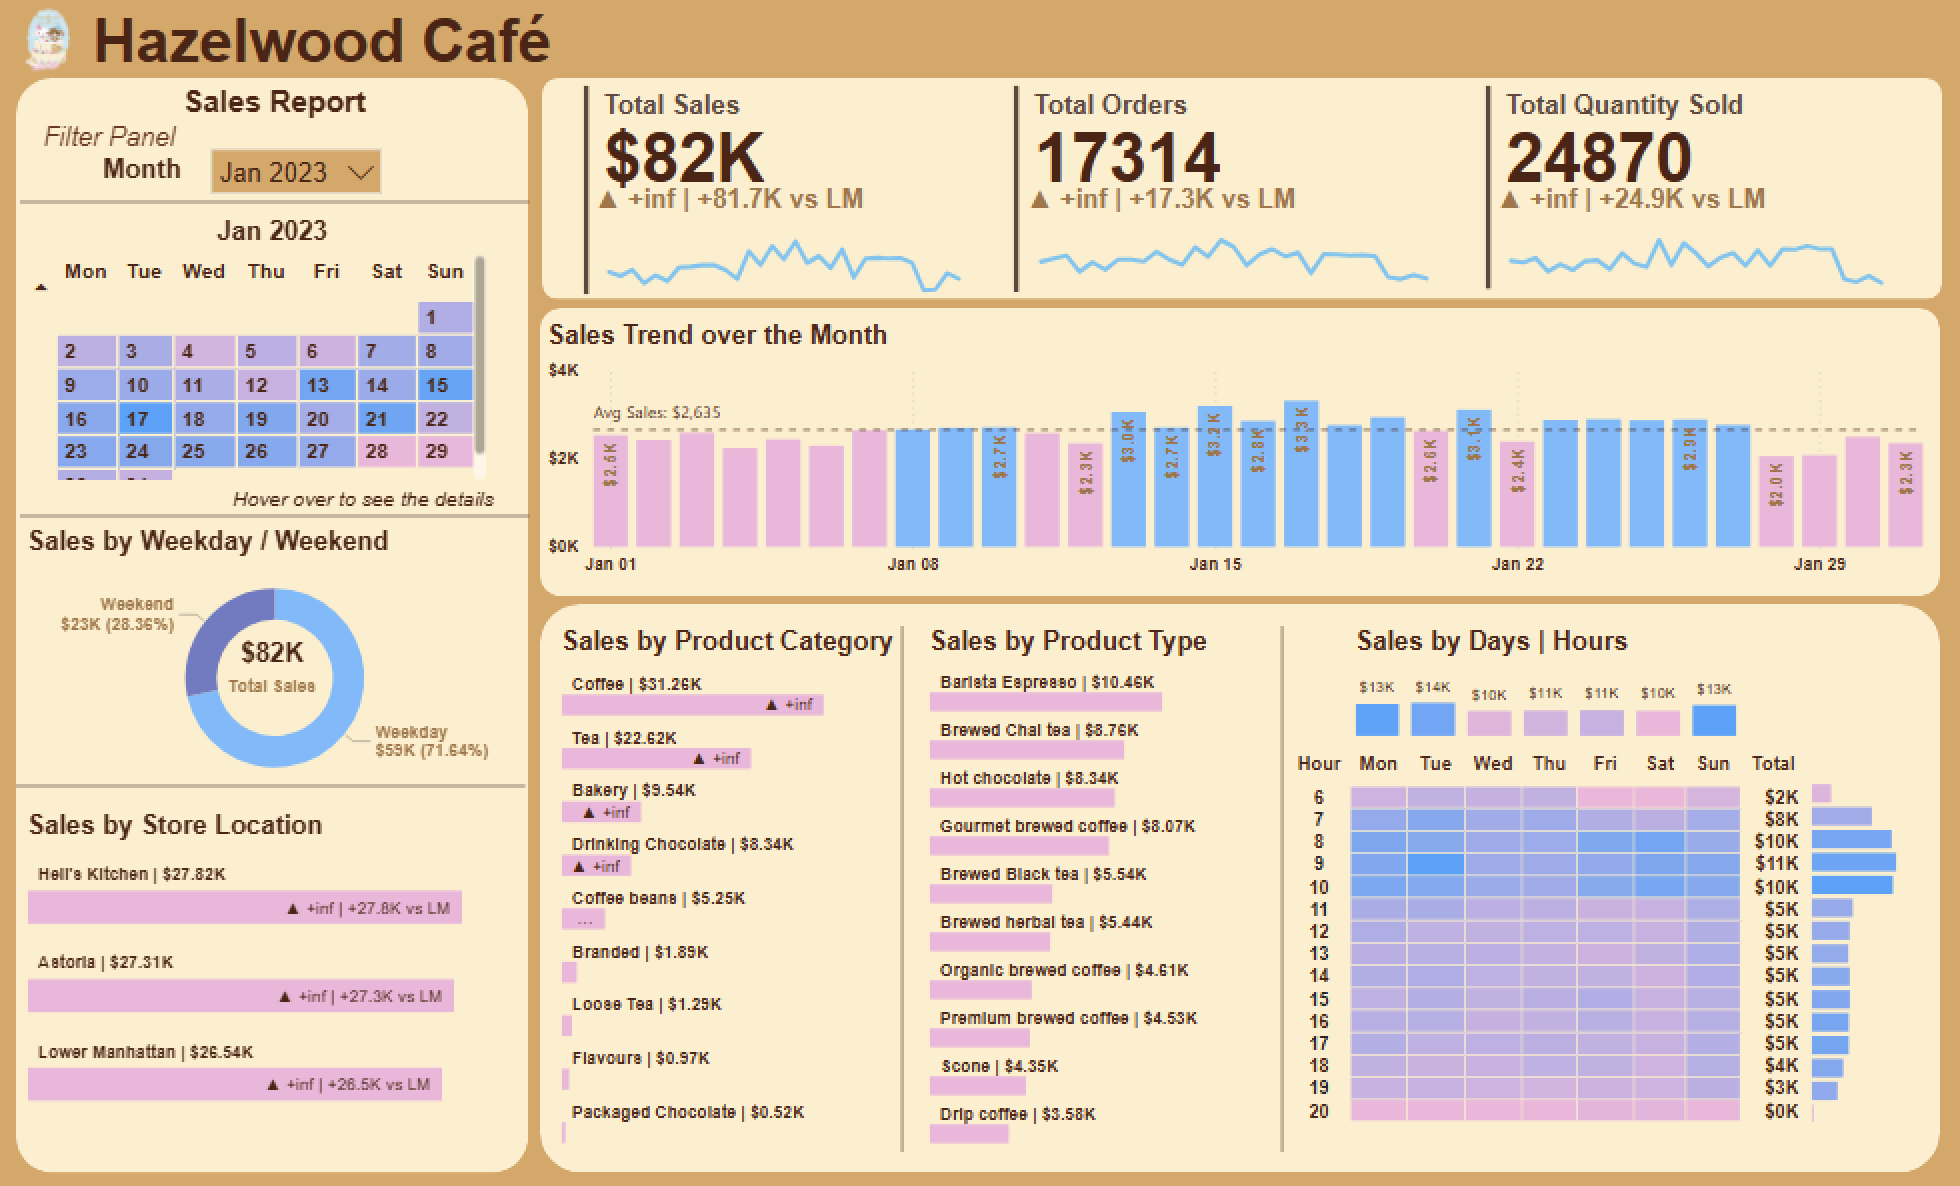

What the dashboard file says about the page in this screenshot:
{"tool":"powerbi","page":{"name":"Page 1","canvas":[1400,850],"ordinal":0},"visuals":[{"type":"shape","box":[12,56,366,782],"z":0},{"type":"cardVisual","fields":{"Data":["Transactions.Total Sales"]},"box":[412,56,262.5,160.3],"z":0,"group":"g1"},{"type":"cardVisual","fields":{"Data":["Transactions.Total Orders"]},"box":[718,56,286.4,158.4],"z":0,"group":"g2"},{"type":"cardVisual","fields":{"Data":["Transactions.Total Quantity Sold"]},"box":[1056,56,276.1,156.5],"z":0,"group":"g3"},{"type":"shape","box":[386.7,55,1000,158.3],"z":1000},{"type":"lineChart","fields":{"Category":["Date Table.Date Hierarchy.Date"],"Y":["Transactions.Total Sales"]},"box":[420.7,131.3,279.8,83.1],"z":1000,"group":"g1"},{"type":"lineChart","fields":{"Category":["Date Table.Date Hierarchy.Date"],"Y":["Transactions.Total Quantity Sold"]},"box":[1065.2,131.4,294.5,81.1],"z":1000,"group":"g3"},{"type":"lineChart","fields":{"Category":["Date Table.Date Hierarchy.Date"],"Y":["Transactions.Total Orders"]},"box":[727.5,132.4,305.4,82.1],"z":1000,"group":"g2"},{"type":"textbox","box":[102.2,0,351.1,70],"z":2000},{"type":"slicer","fields":{"Values":["Date Table.Month Year"]},"box":[145.6,101.1,132.2,64.4],"z":3000},{"type":"group","id":"g1","title":"Group 1","box":[412,56,288,162],"z":4000},{"type":"group","id":"g2","title":"Group 1","box":[718,56,316,160],"z":5000},{"type":"group","id":"g3","title":"Group 1","box":[1056,56,304,158],"z":6000},{"type":"pivotTable","fields":{"Rows":["Date Table.Week Number"],"Columns":["Date Table.Day Name"],"Values":["Min(Date Table.Day Number)"]},"box":[14.4,177.8,337.8,170],"z":7000},{"type":"card","fields":{"Values":["Min(Date Table.Month Year)"]},"box":[142,148,106,36],"z":8000},{"type":"card","fields":{"Values":["Transactions.Foot Note"]},"box":[142,338,236,40],"z":9000},{"type":"shape","box":[14,358,364,20],"z":10000},{"type":"shape","box":[14,134,364,20],"z":11000},{"type":"donutChart","title":"Sales by Weekday / Weekend","fields":{"Category":["Date Table.Weekday / Weekend"],"Y":["Transactions.Total Sales"]},"box":[14,376,364,196],"z":12000},{"type":"card","fields":{"Values":["Transactions.Total Sales"]},"box":[148,440,92,68],"z":13000},{"type":"shape","box":[12,552,364,20],"z":14000},{"type":"clusteredBarChart","title":"Sales by Store Location","fields":{"Category":["Transactions.store_location"],"Y":["Transactions.Placeholder","Transactions.Total Sales"]},"box":[14,578,362,216],"z":15000},{"type":"shape","box":[386,220,1000,206],"z":16000},{"type":"columnChart","title":"Sales Trend over the Month","fields":{"Category":["Transactions.transaction_date"],"Y":["Transactions.Total Sales"]},"box":[386,228,1000,190],"z":17000},{"type":"shape","box":[386,432,1000,406],"z":18000},{"type":"clusteredBarChart","title":"Sales by Product Category","fields":{"Y":["Transactions.Placeholder","Transactions.Total Sales"],"Category":["Transactions.product_category"]},"box":[395,447.5,250,375],"z":19000},{"type":"shape","box":[630,447.8,28.9,375.6],"z":20000},{"type":"clusteredBarChart","title":"Sales by Product Type","fields":{"Y":["Transactions.Placeholder","Transactions.Total Sales"],"Category":["Transactions.product_type"]},"box":[658.8,447.5,248.8,375],"z":21000},{"type":"pivotTable","fields":{"Rows":["Transactions.Hour"],"Columns":["Date Table.Day Name"],"Values":["Transactions.Total Sales"]},"box":[915.6,532.2,384.4,290],"z":22000},{"type":"clusteredBarChart","fields":{"Category":["Transactions.Hour"],"Y":["Transactions.Total Sales"]},"box":[1288.9,547.8,96.7,260],"z":23000},{"type":"columnChart","title":"Sales by Days | Hours","fields":{"Y":["Transactions.Total Sales"],"Category":["Date Table.Day Name"]},"box":[962.2,447.8,283.3,84.4],"z":24000},{"type":"shape","box":[901.1,447.8,28.9,375.6],"z":25000},{"type":"textbox","box":[68.8,106.2,77.5,37.5],"z":26000},{"type":"image","box":[0,0,128,56],"z":27000},{"type":"textbox","box":[72.5,55,246.2,36.2],"z":28000},{"type":"textbox","box":[0,82.5,156.2,36.2],"z":29000}]}

Visuals, with their boxes in screenshot pixels (x1, y1, x2, y2), scaled from the page's 1400x850 canvas onto the 1960x1186 screenshot:
shape: select_region(17, 78, 529, 1169)
cardVisual - Transactions.Total Sales: select_region(577, 78, 944, 302)
cardVisual - Transactions.Total Orders: select_region(1005, 78, 1406, 299)
cardVisual - Transactions.Total Quantity Sold: select_region(1478, 78, 1865, 296)
shape: select_region(541, 77, 1941, 298)
lineChart - Date Table.Date Hierarchy.Date x Transactions.Total Sales: select_region(589, 183, 981, 299)
lineChart - Date Table.Date Hierarchy.Date x Transactions.Total Quantity Sold: select_region(1491, 183, 1904, 296)
lineChart - Date Table.Date Hierarchy.Date x Transactions.Total Orders: select_region(1018, 185, 1446, 299)
textbox: select_region(143, 0, 635, 98)
slicer - Date Table.Month Year: select_region(204, 141, 389, 231)
"Group 1" group: select_region(577, 78, 980, 304)
"Group 1" group: select_region(1005, 78, 1448, 301)
"Group 1" group: select_region(1478, 78, 1904, 299)
pivotTable - Date Table.Week Number x Date Table.Day Name: select_region(20, 248, 493, 485)
card - Min(Date Table.Month Year): select_region(199, 207, 347, 257)
card - Transactions.Foot Note: select_region(199, 472, 529, 527)
shape: select_region(20, 500, 529, 527)
shape: select_region(20, 187, 529, 215)
"Sales by Weekday / Weekend" donutChart: select_region(20, 525, 529, 798)
card - Transactions.Total Sales: select_region(207, 614, 336, 709)
shape: select_region(17, 770, 526, 798)
"Sales by Store Location" clusteredBarChart: select_region(20, 806, 526, 1108)
shape: select_region(540, 307, 1940, 594)
"Sales Trend over the Month" columnChart: select_region(540, 318, 1940, 583)
shape: select_region(540, 603, 1940, 1169)
"Sales by Product Category" clusteredBarChart: select_region(553, 624, 903, 1148)
shape: select_region(882, 625, 922, 1149)
"Sales by Product Type" clusteredBarChart: select_region(922, 624, 1271, 1148)
pivotTable - Transactions.Hour x Date Table.Day Name: select_region(1282, 743, 1820, 1147)
clusteredBarChart - Transactions.Hour x Transactions.Total Sales: select_region(1804, 764, 1940, 1127)
"Sales by Days | Hours" columnChart: select_region(1347, 625, 1744, 743)
shape: select_region(1262, 625, 1302, 1149)
textbox: select_region(96, 148, 205, 201)
image: select_region(0, 0, 179, 78)
textbox: select_region(102, 77, 446, 127)
textbox: select_region(0, 115, 219, 166)
